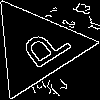P: (11, 22, 74, 77)
